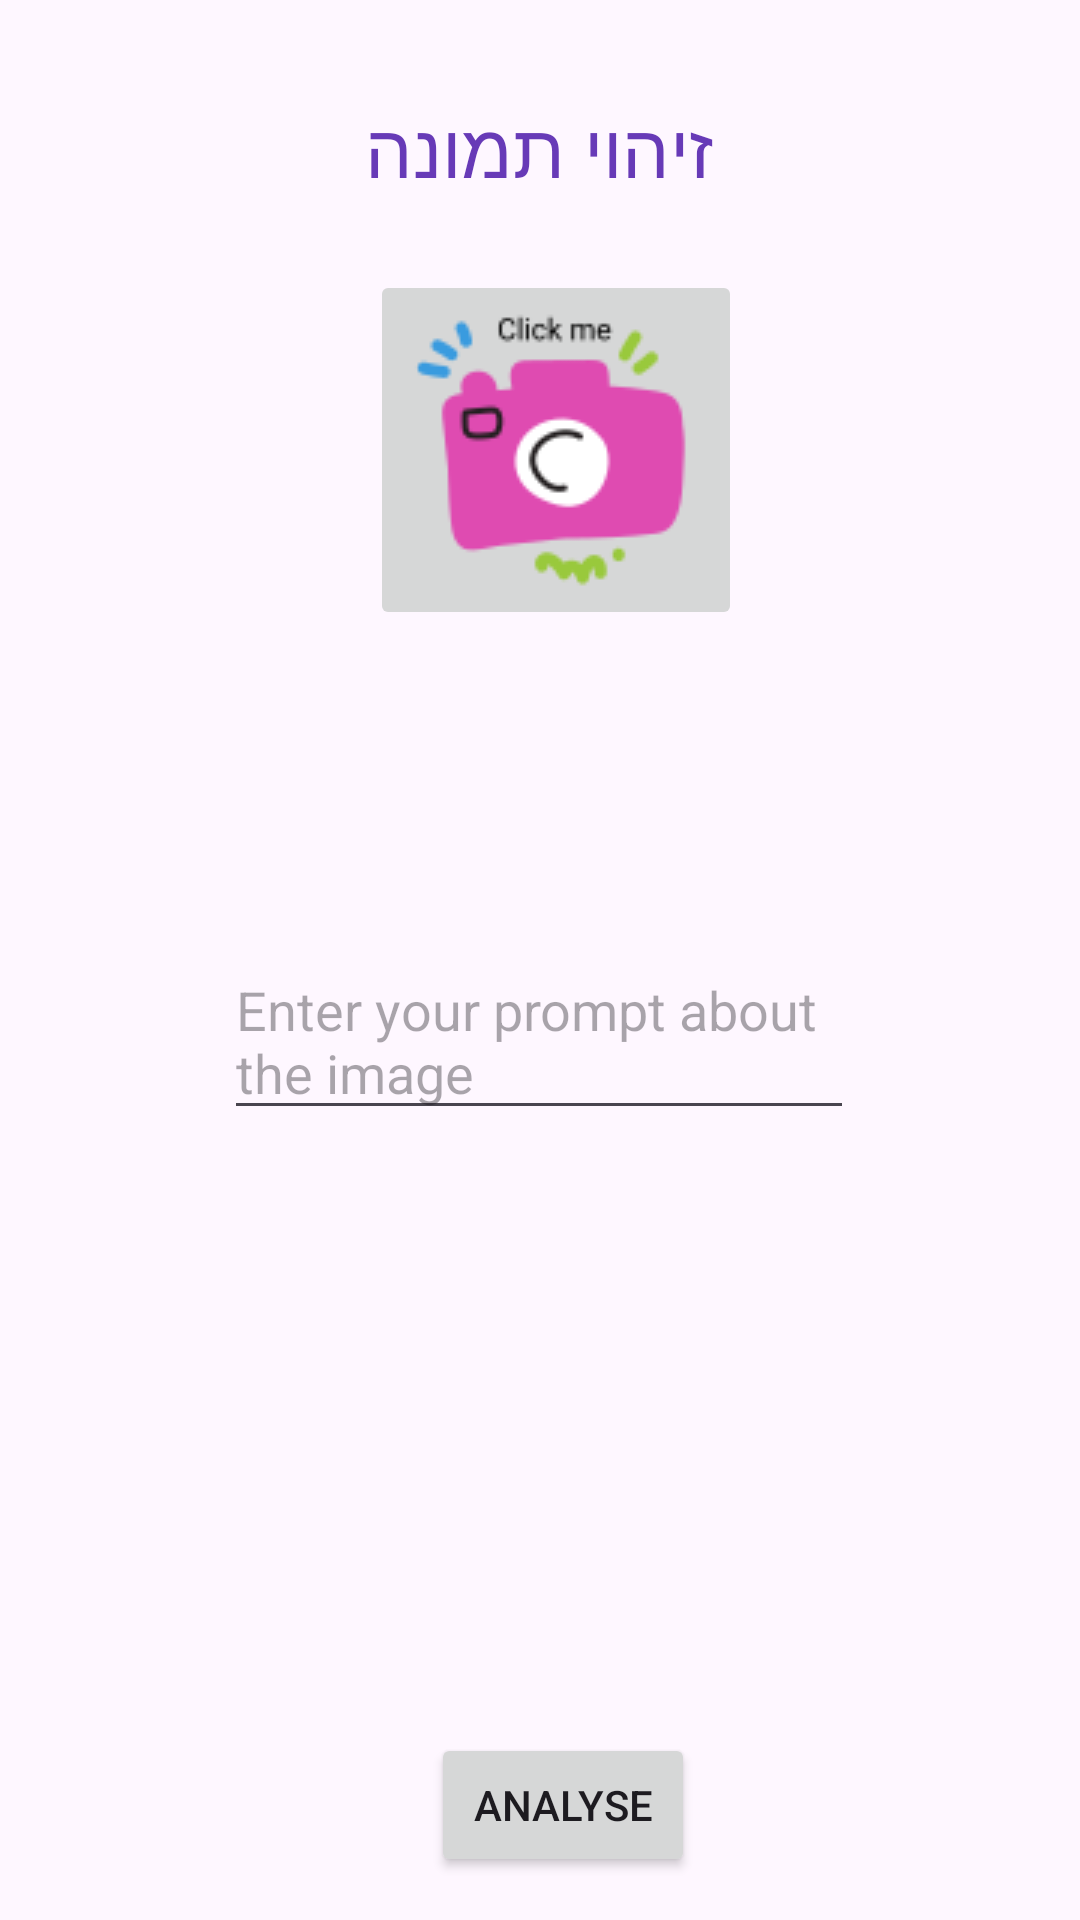

Where icons sit on this 1080x1920 app screen, as (x1, y1, x2, y2):
camera: (382, 288, 730, 612)
